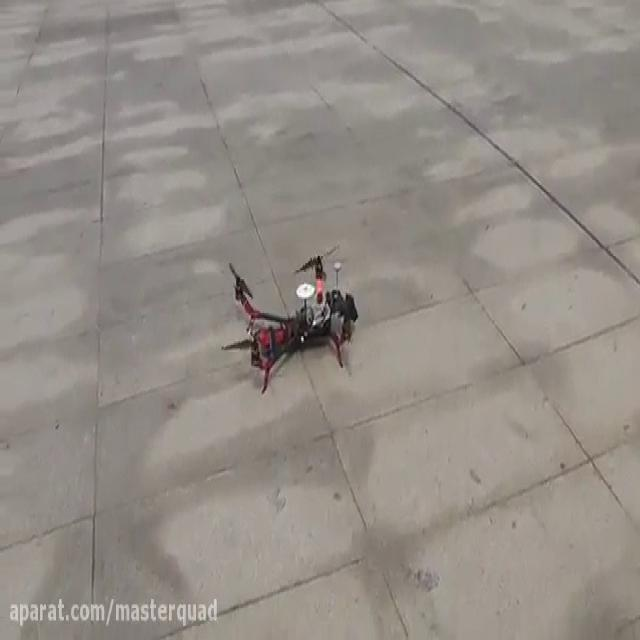drone: (219, 234, 361, 394)
